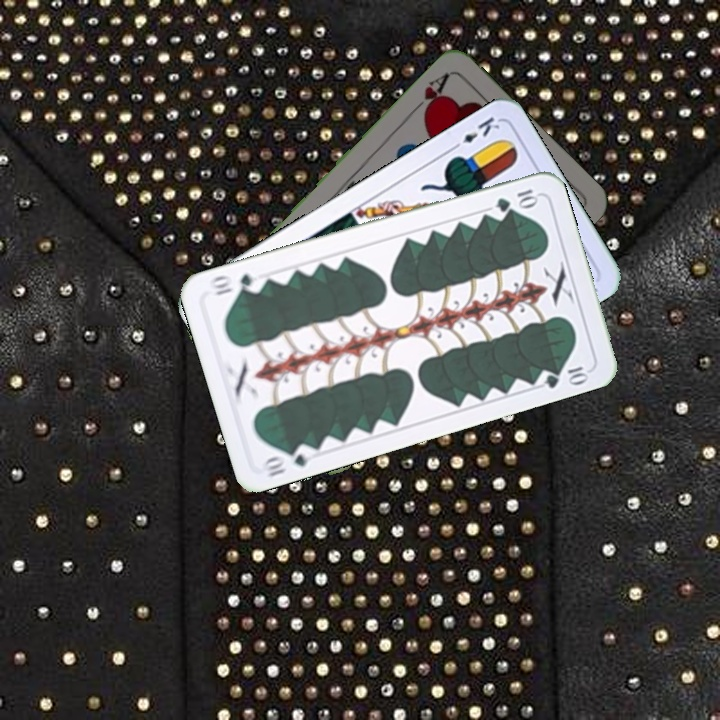EK: (447, 112, 503, 153)
G10: (259, 440, 314, 480), (492, 185, 541, 215)
HA: (407, 68, 453, 120)
